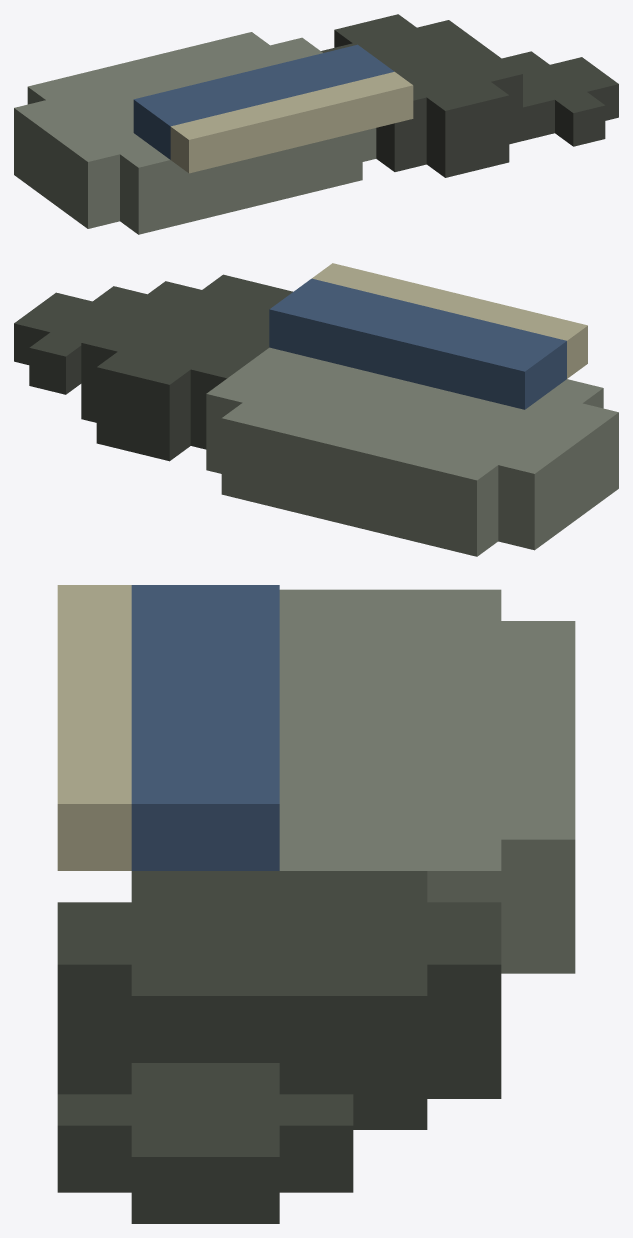
Rendered from male_wing.glb.
3 views of the same model, one above another, from view 1: azimuth 30°, elevation 25°; view 2: azimuth 150°, elevation 25°; view 3: azimuth 270°, elevation 25° (orthographic). The views are drawn at different scales.
Visible parts, largest first — view 1: VoxelVisual; view 2: VoxelVisual; view 3: VoxelVisual.
Part boxes in pixels (x1=…): VoxelVisual: x1=14, y1=14, x2=618, y2=234; VoxelVisual: x1=14, y1=263, x2=618, y2=556; VoxelVisual: x1=57, y1=585, x2=575, y2=1223.
Size of what is drawn, in the model's own units: 1 by 0.1875 by 0.4375.
